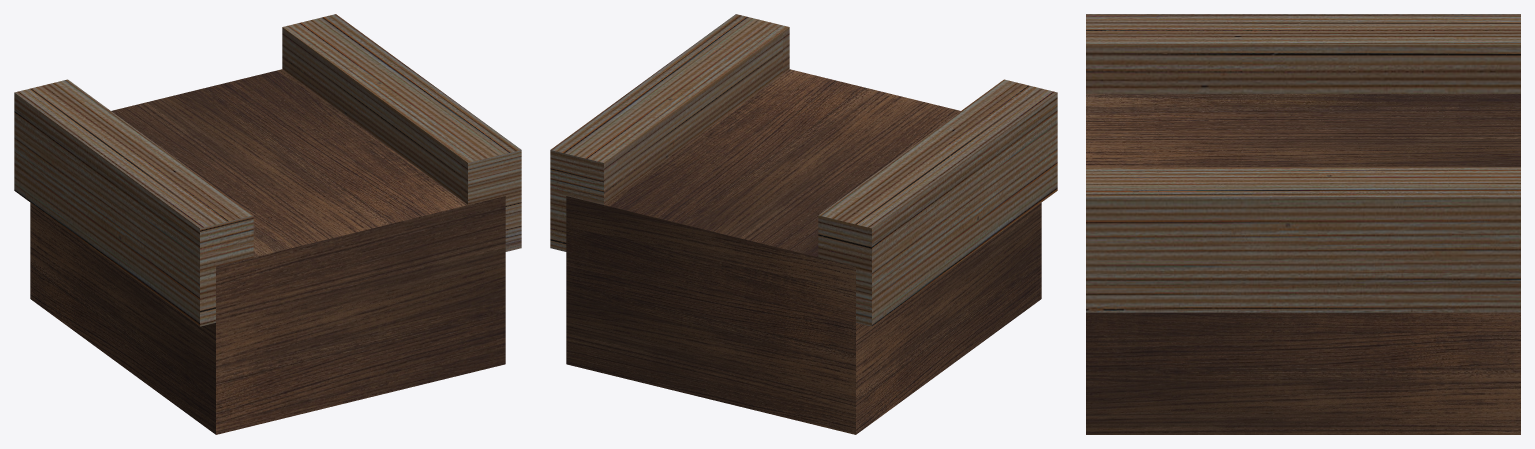
Rendered from wall3.fbx.
3 renders of one model, left to right at view 1: azimuth 30°, elevation 25°; view 2: azimuth 150°, elevation 25°; view 3: azimuth 270°, elevation 25°, orthographic. The views are drawn at different scales.
Visible parts, largest first — view 1: Cube.002; view 2: Cube.002; view 3: Cube.002.
Boxes of the visible parts, x1=… form: Cube.002: x1=14, y1=14, x2=521, y2=434; Cube.002: x1=550, y1=14, x2=1057, y2=434; Cube.002: x1=1086, y1=14, x2=1520, y2=434.
Bounding box in the file's own units: 200 × 125 × 200.
